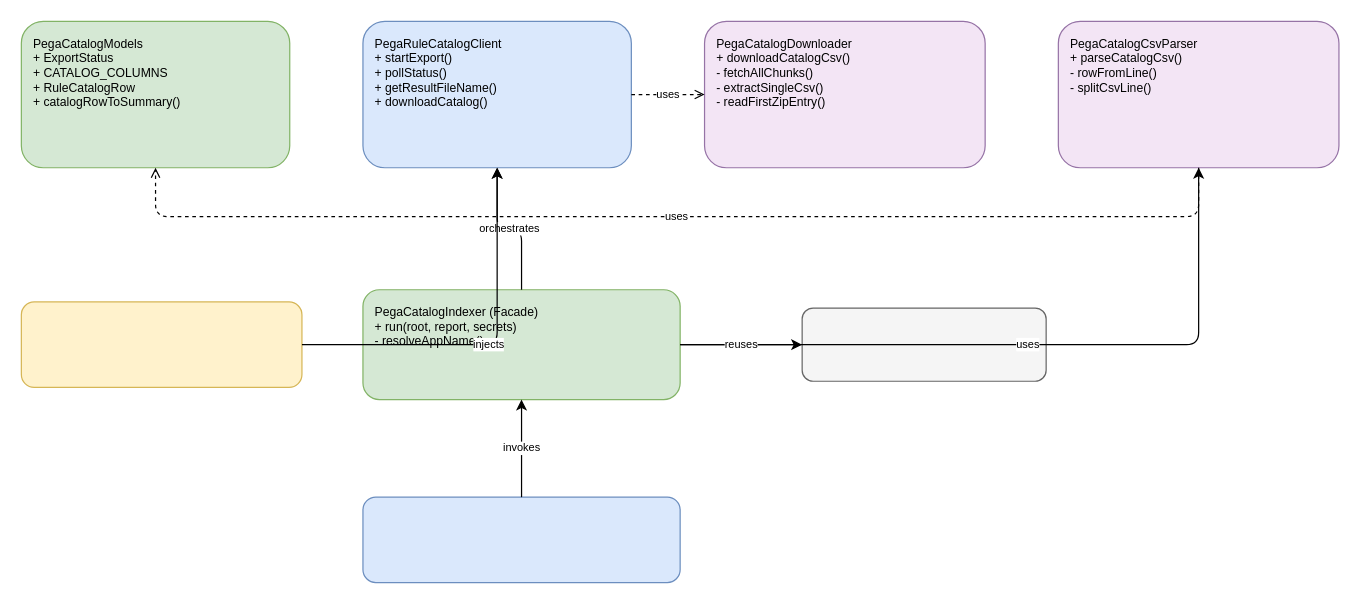
This 1360x604 diagram has some shape labels left out. The shapes that lost their labels are listed below. From the top down, each one's centre as x and y in pixels, then its label:
At pixel 161 344: "PegaHttpClient (host abstraction) getPegaEndpoint() / getAuthHeader()".
At pixel 923 344: "PegaBfsIndexer (reuse)".
At pixel 521 539: "IndexingService + runPegaProjectIndexer()".
